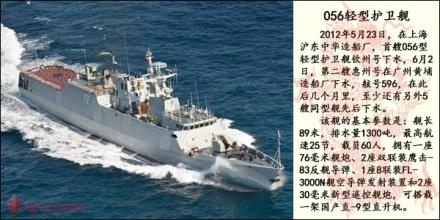warship: (16, 46, 288, 187)
